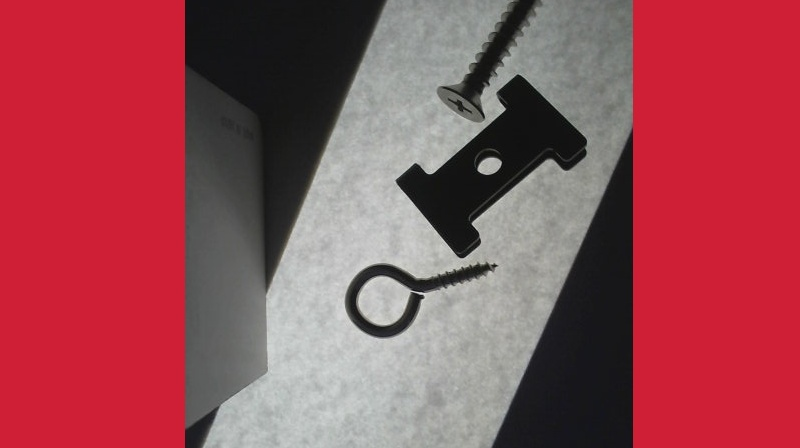O001: (342, 258, 500, 340)
O002: (393, 72, 586, 260)
S001: (436, 0, 552, 121)
